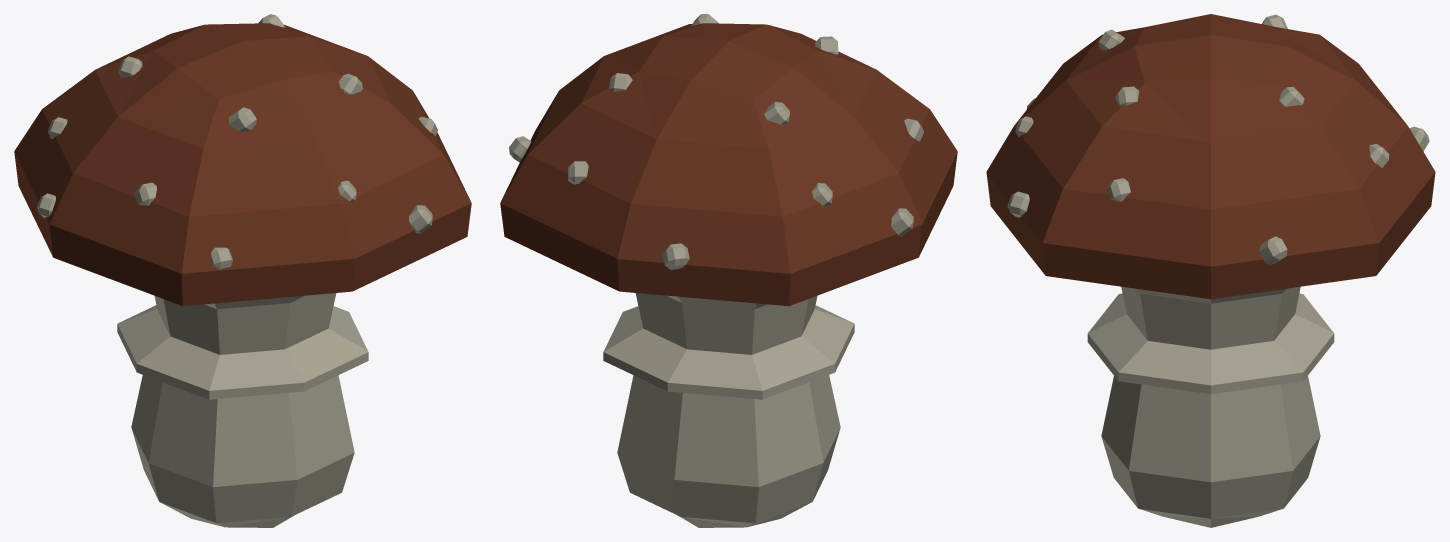
The model's file is plant_mushroom_giant_1.glb.
3 views of the same model, side by side, from view 1: azimuth 30°, elevation 25°; view 2: azimuth 150°, elevation 25°; view 3: azimuth 270°, elevation 25° (orthographic).
Visible parts, largest first — view 1: plant_mushroom_giant_1; view 2: plant_mushroom_giant_1; view 3: plant_mushroom_giant_1.
Boxes of the visible parts, x1,y1,x2,y2 form: plant_mushroom_giant_1: (14, 14, 471, 527); plant_mushroom_giant_1: (500, 14, 957, 527); plant_mushroom_giant_1: (986, 14, 1435, 527).
Size of the model in its own units: 7.72 by 9 by 7.7.
